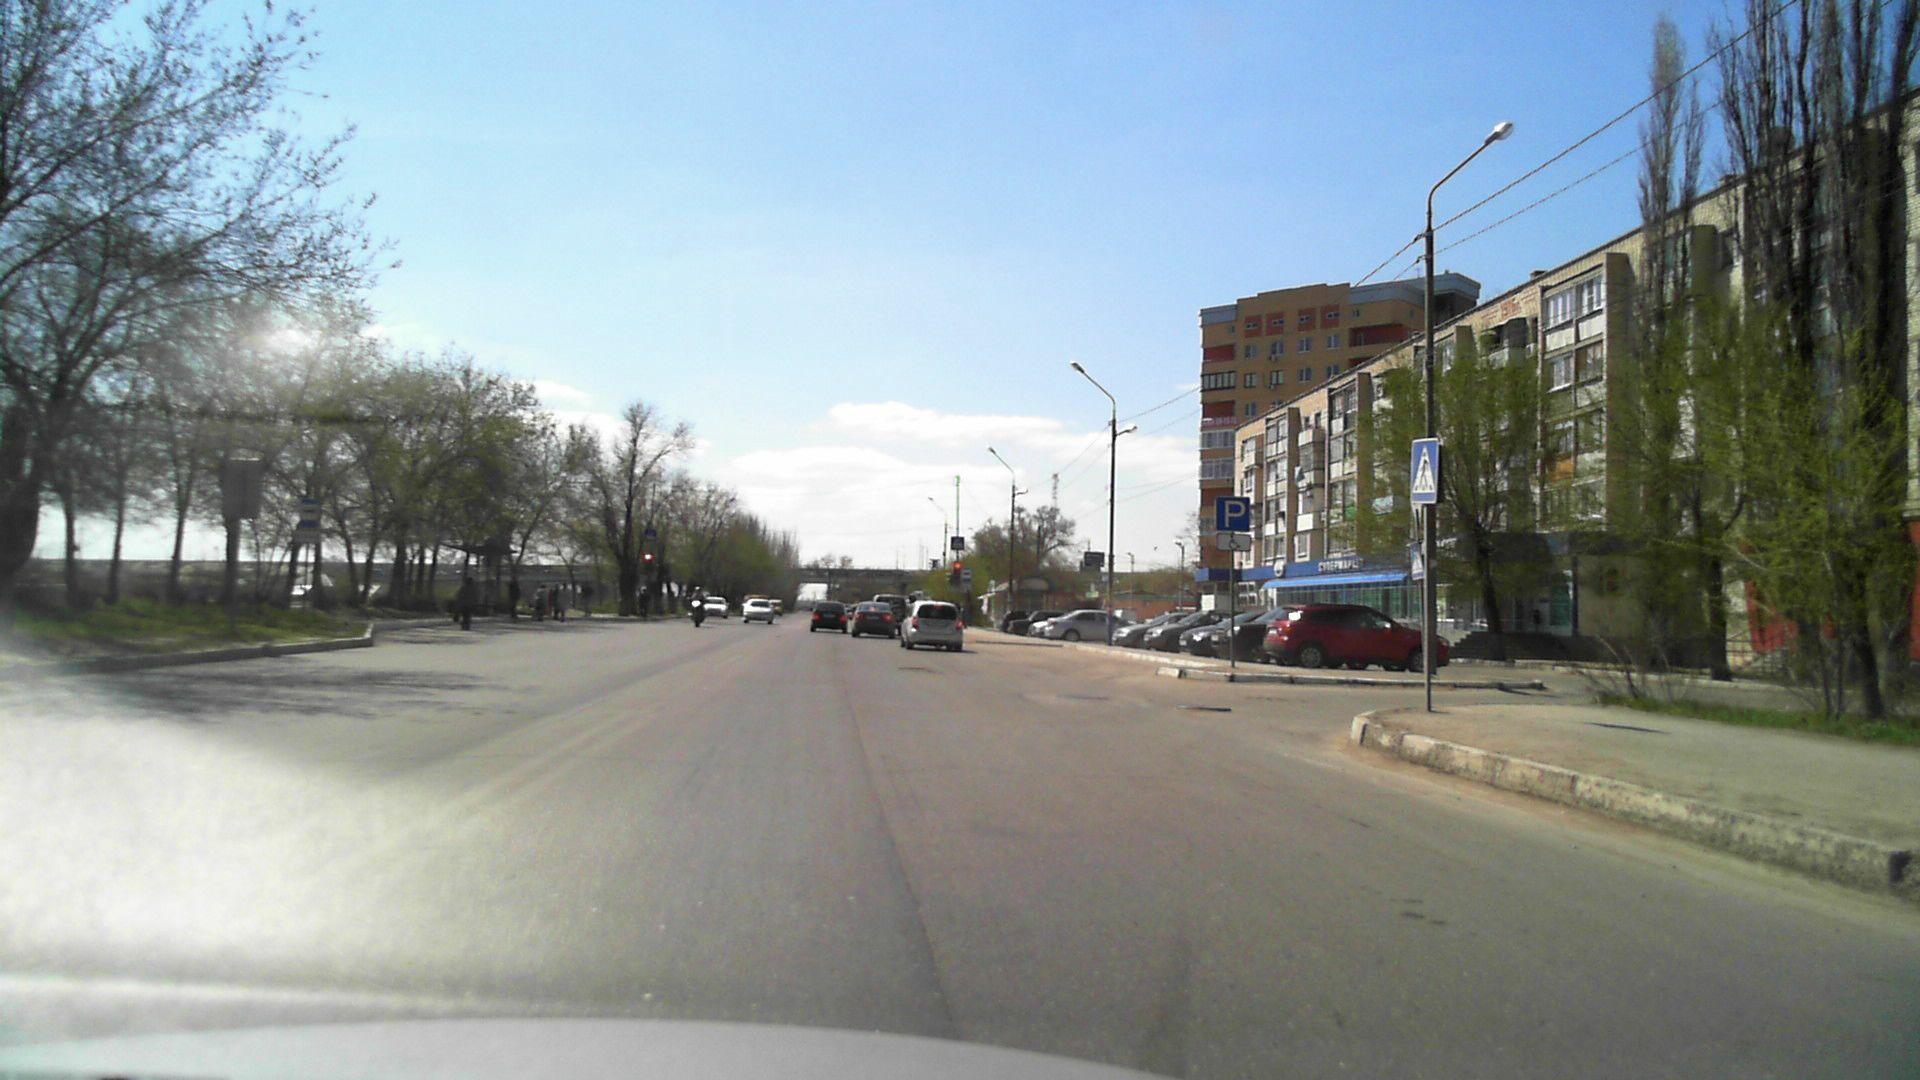5_16: (962, 568, 971, 582)
5_19_1: (1409, 438, 1439, 505), (952, 537, 965, 550)
5_19_2: (644, 528, 655, 540)
6_4: (1217, 496, 1251, 530)
8_17: (1215, 532, 1252, 551)
